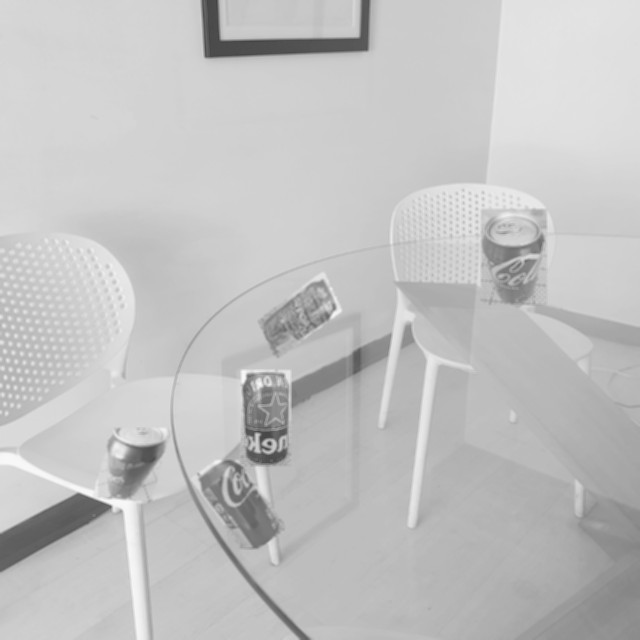coca cola: (191, 460, 286, 549), (481, 209, 547, 305)
heineken: (241, 370, 291, 466)
schweppes: (93, 428, 173, 502)
sprite: (256, 272, 346, 358)
